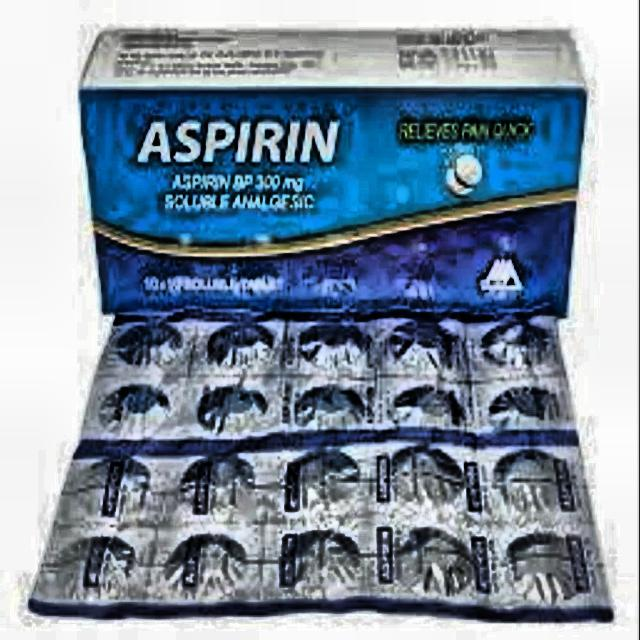Aspirin: (129, 111, 345, 176)
